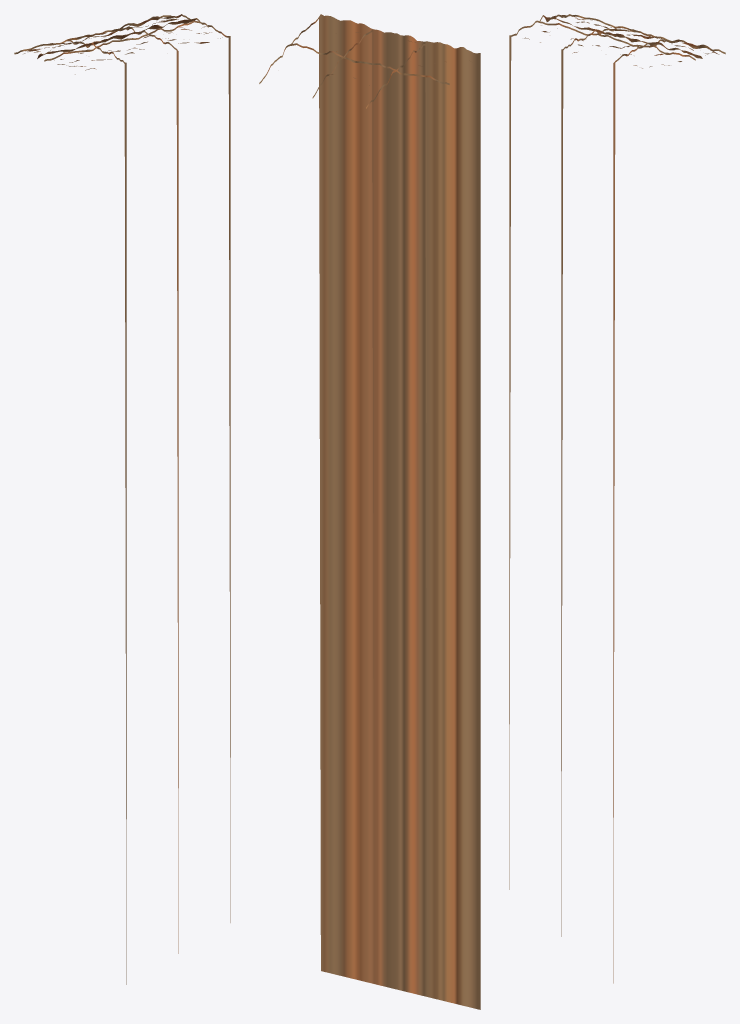
The model's file is terrain-141.glb.
The picture shows the model from 3 angles, left to right: view 1: azimuth 30°, elevation 25°; view 2: azimuth 150°, elevation 25°; view 3: azimuth 330°, elevation 25°; orthographic projection. The views are drawn at different scales.
Visible parts, largest first — view 1: terrain-141; view 2: terrain-141; view 3: terrain-141.
Boxes of the visible parts, <box> form: terrain-141: <box>14,14,230,984</box>; terrain-141: <box>259,14,480,1009</box>; terrain-141: <box>509,14,725,983</box>.
Bounding box in the file's own units: 384 × 2204 × 256.
